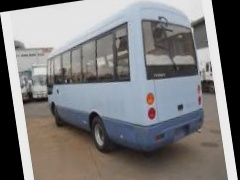bus: (35, 0, 212, 166)
